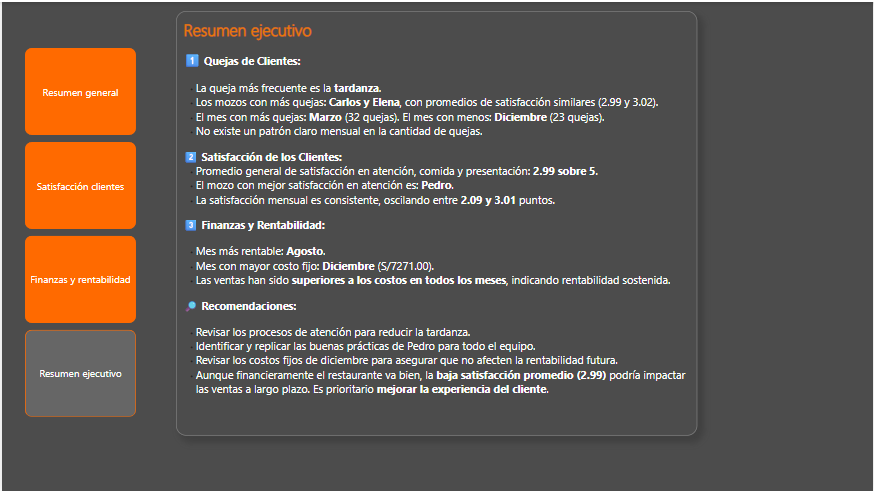

The dashboard page shown, as its layout file describes it:
{"tool":"powerbi","page":{"name":"Resumen ejecutivo","canvas":[1280,720],"ordinal":3},"visuals":[{"type":"textbox","box":[256.2,12.5,766.2,623.8],"z":0},{"type":"pageNavigator","box":[33.8,67.5,163.8,542.5],"z":1}]}

Visuals, with their boxes in screenshot pixels (x1, y1, x2, y2), scaled from the page's 1280x720 canvas onto the 874x491 screenshot:
textbox: [175, 9, 698, 434]
pageNavigator: [23, 46, 135, 416]
